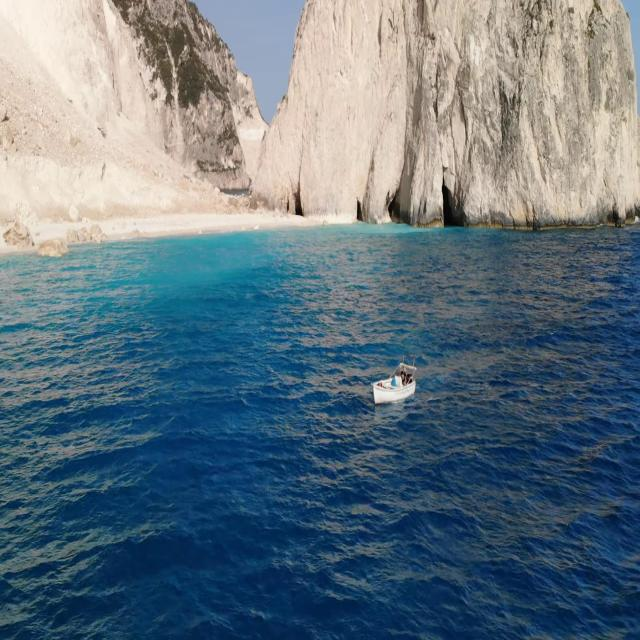boat: (373, 352, 417, 412)
